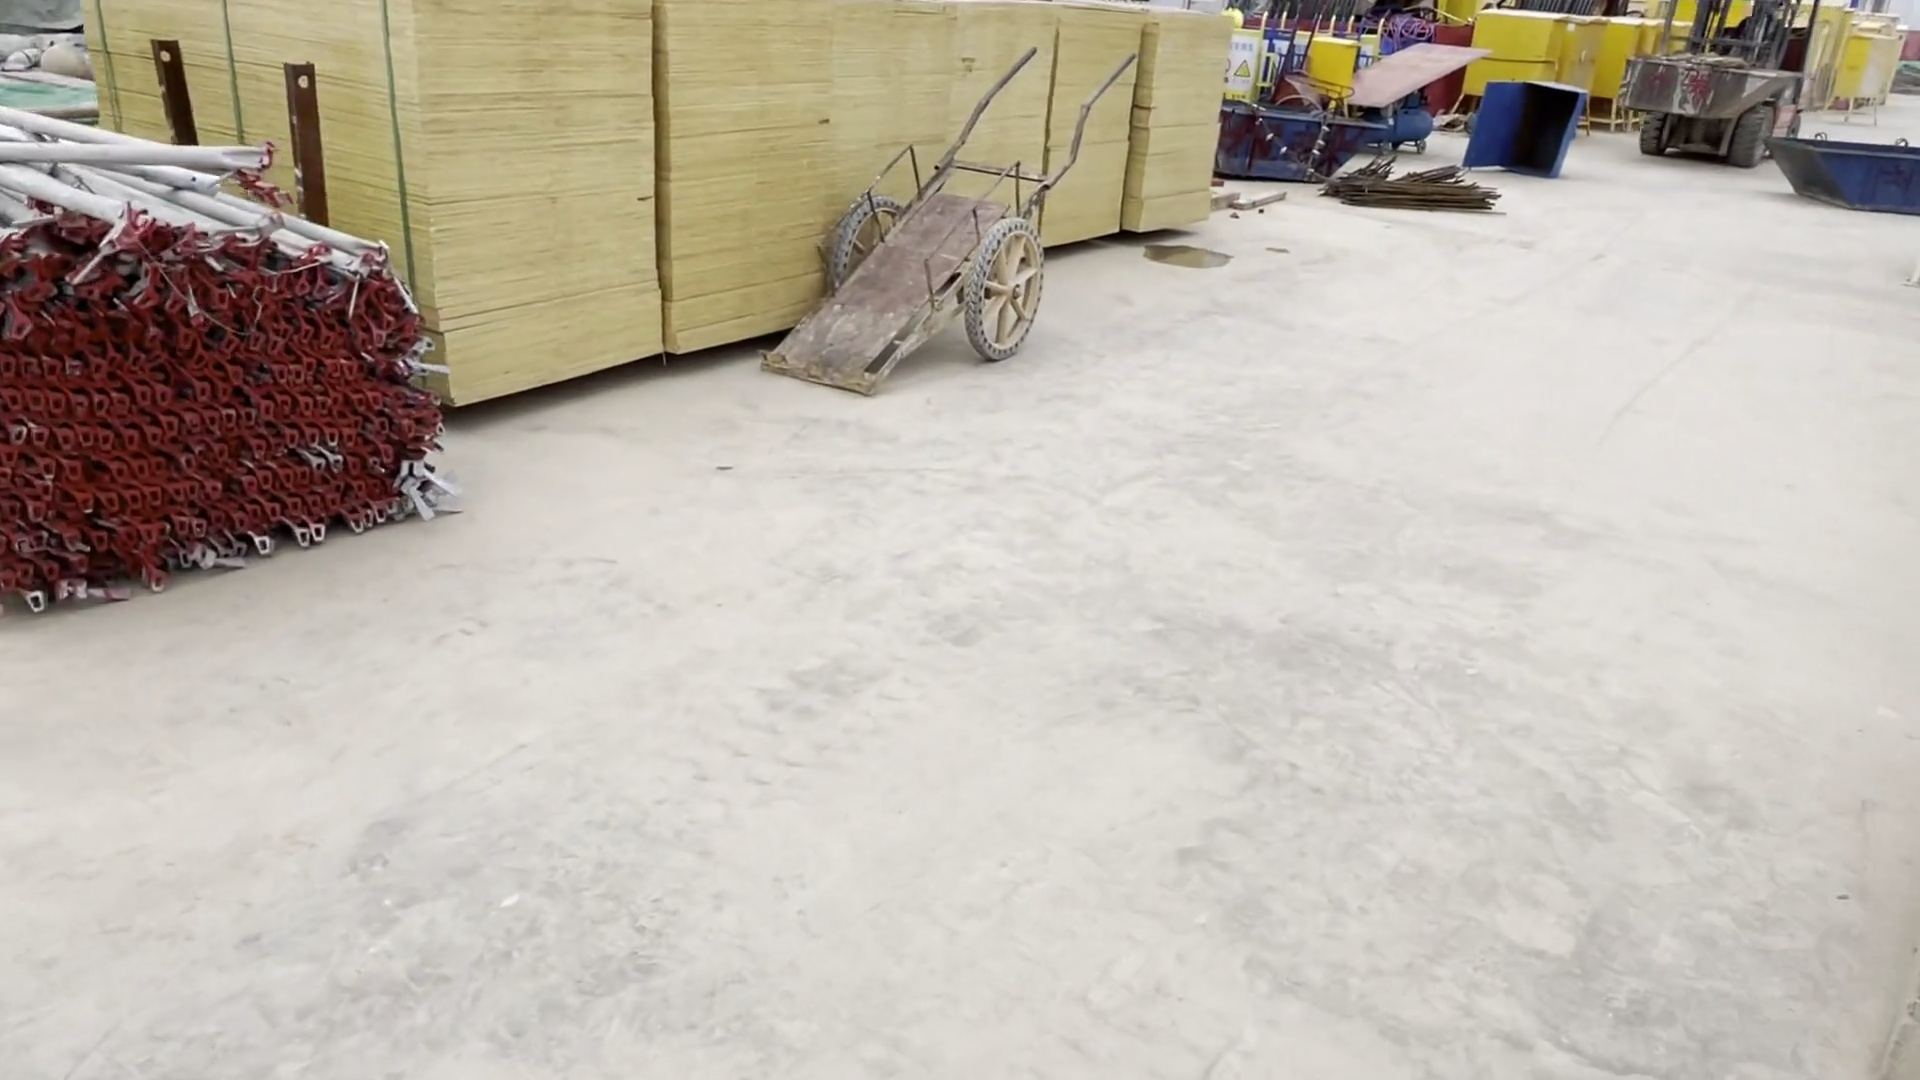ebox: (1458, 13, 1557, 98), (1833, 26, 1912, 116), (1556, 11, 1611, 111), (1296, 30, 1364, 96)
handcart: (775, 47, 1134, 415)
scaffold: (1, 65, 415, 630)
